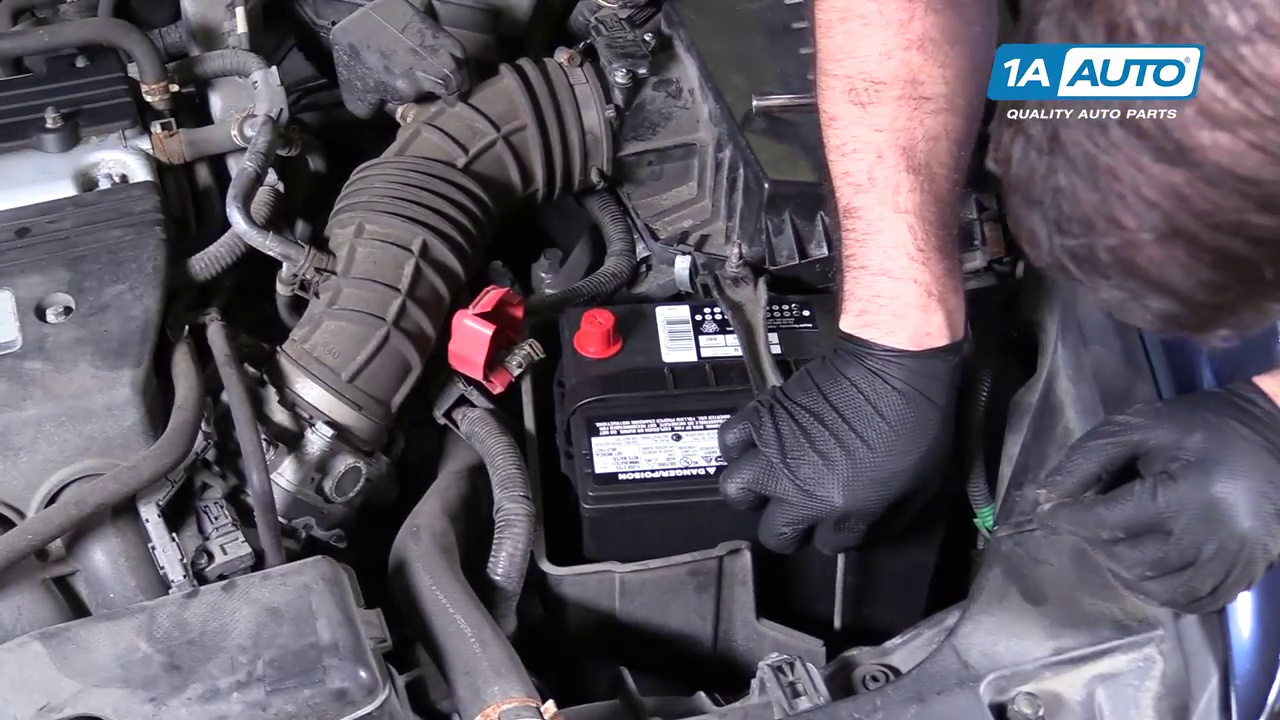battery: (552, 291, 834, 501)
pos_disconnected: (429, 276, 633, 411)
